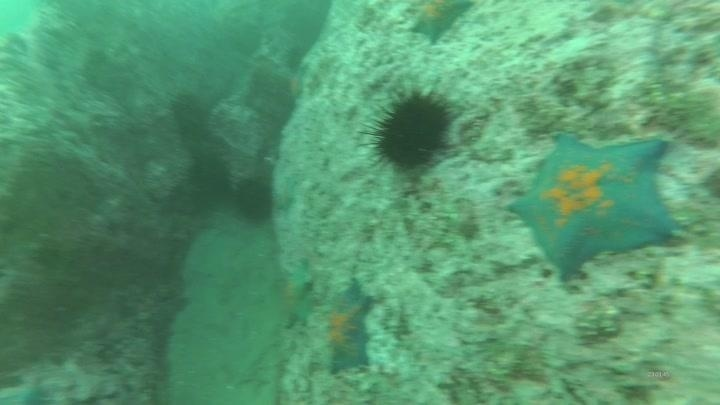echinus: (366, 87, 457, 174), (186, 149, 234, 198), (231, 174, 276, 225)
starfish: (506, 128, 684, 283), (320, 276, 377, 376), (405, 0, 476, 46), (274, 258, 318, 329), (284, 64, 309, 104)
